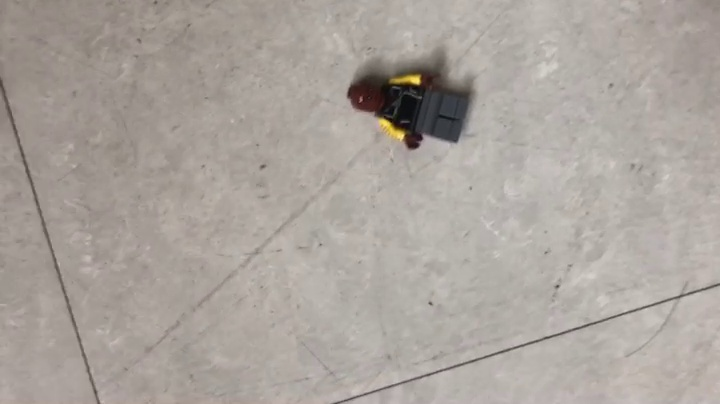people: (346, 72, 472, 152)
